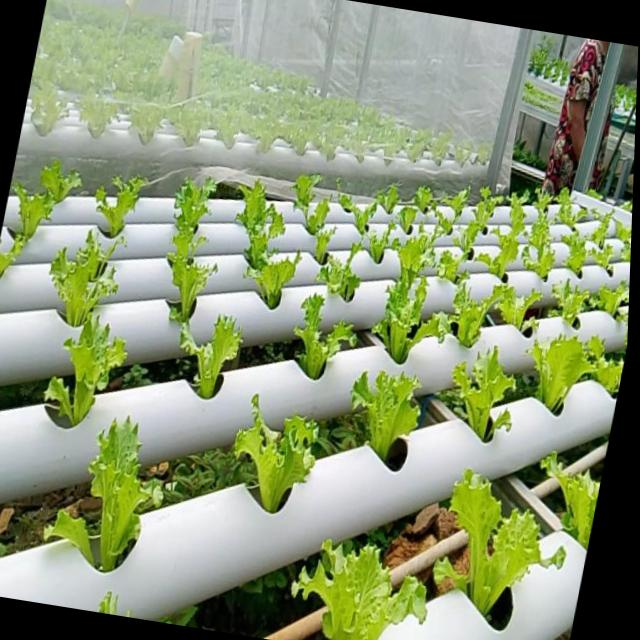Baby: (435, 467, 567, 612), (293, 539, 428, 640), (89, 416, 161, 572), (233, 395, 319, 514), (45, 314, 126, 427), (167, 179, 216, 332), (351, 372, 421, 471), (50, 231, 120, 328), (451, 347, 516, 442), (438, 278, 514, 349), (528, 331, 594, 412), (294, 295, 356, 381), (180, 316, 241, 400), (237, 181, 284, 269), (8, 184, 57, 257), (316, 245, 376, 304), (244, 254, 301, 310), (96, 177, 147, 239), (522, 196, 555, 281), (391, 228, 435, 289), (555, 189, 586, 228), (563, 231, 587, 275), (589, 213, 612, 249), (437, 250, 462, 283), (435, 208, 458, 238)
